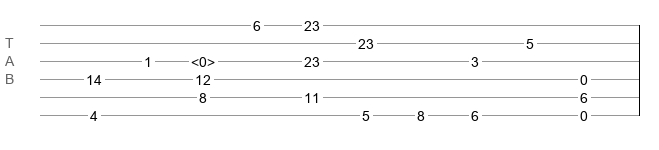0: (580, 108, 588, 118), (580, 72, 588, 82)
1: (144, 54, 152, 64)
11: (304, 90, 320, 100)
12: (195, 72, 211, 82)
14: (86, 72, 102, 82)
23: (304, 18, 320, 28), (304, 54, 320, 64), (358, 36, 374, 46)
3: (471, 54, 479, 64)
4: (90, 108, 98, 118)
5: (362, 108, 370, 118), (526, 36, 534, 46)
6: (253, 18, 261, 28), (471, 108, 479, 118), (580, 90, 588, 100)
8: (199, 90, 207, 100), (417, 108, 425, 118)
harmonic: (191, 54, 215, 64)
